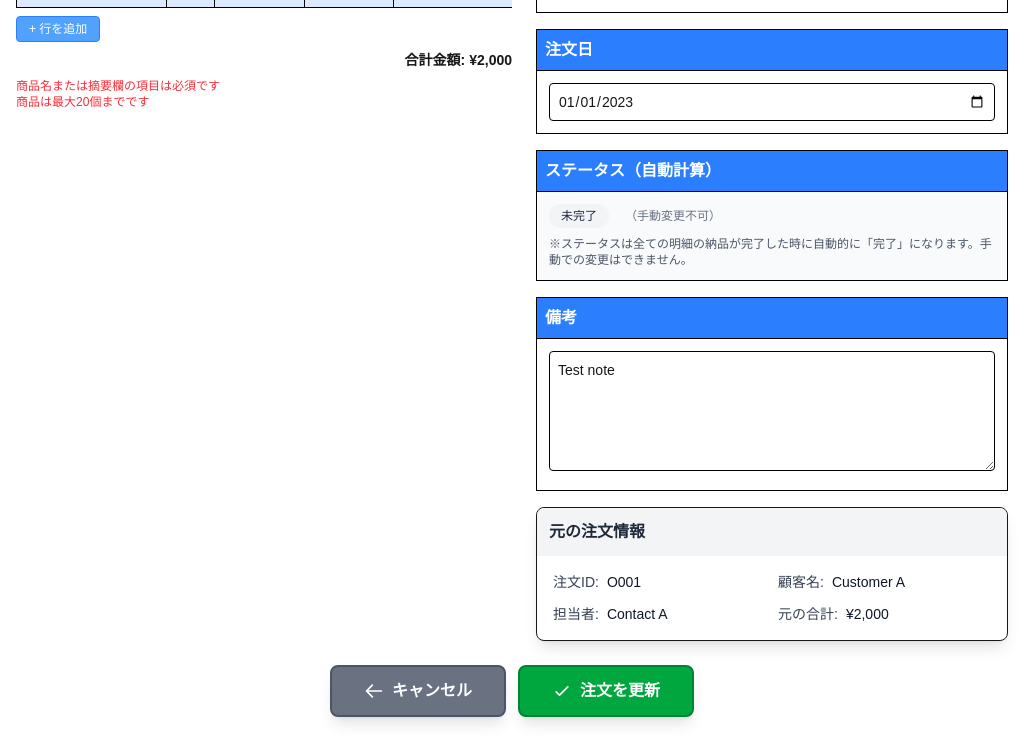
OrderEditPage › 保存失敗を処理する
(page scrolled)
Expected: the text "注文を更新" is shown, [552,679,660,703]
Click the button "注文を更新". click: [606, 691]
box: [518,665,694,717]
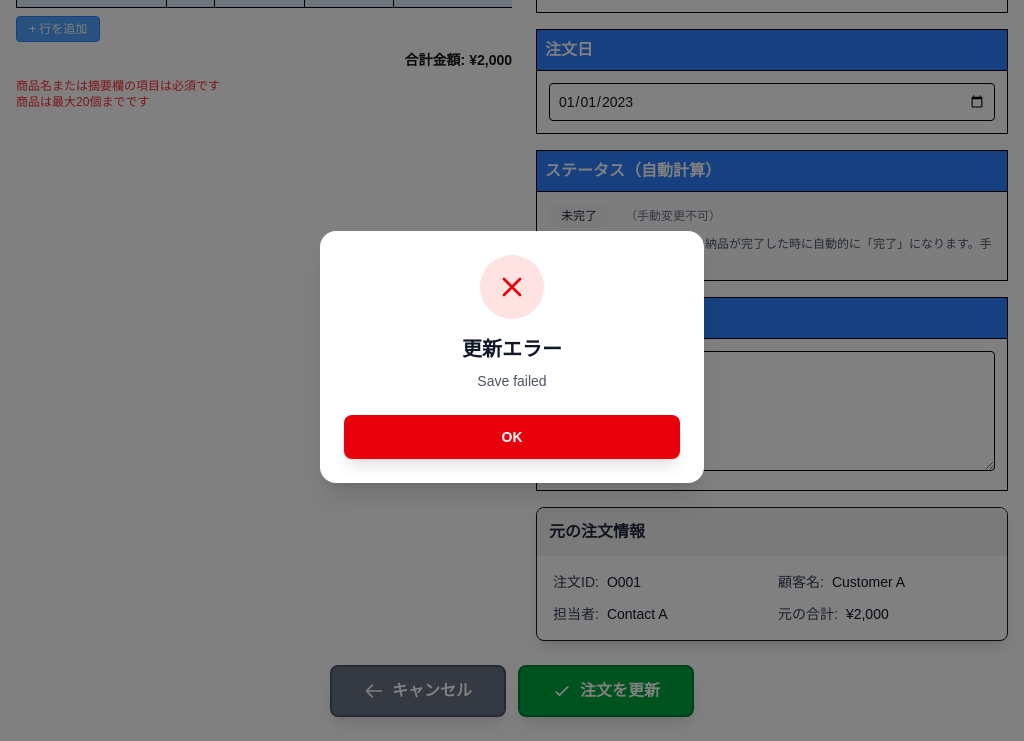
Now the heading "更新エラー" is shown, box [462,338,562,360]
